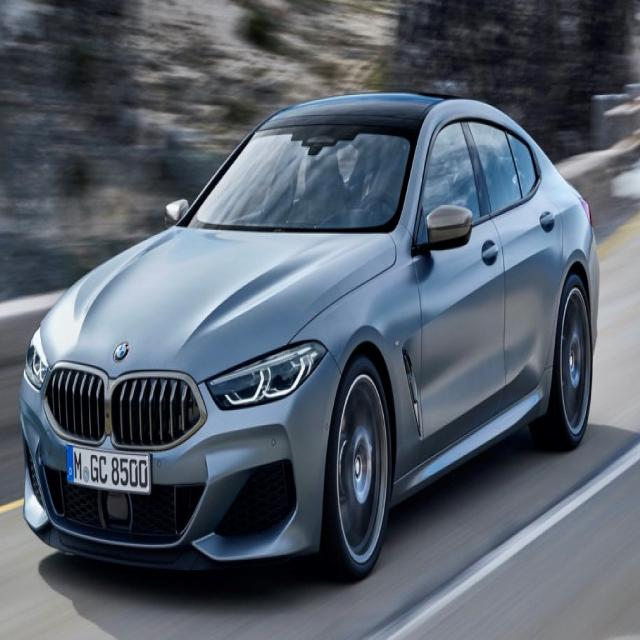yolov7-seg-car: (18, 90, 599, 583)
